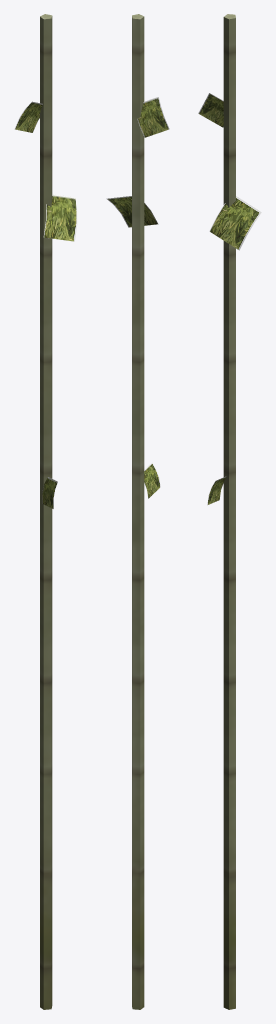
The model's file is bamboo.fbx.
3 renders of one model, left to right at view 1: azimuth 30°, elevation 25°; view 2: azimuth 150°, elevation 25°; view 3: azimuth 330°, elevation 25°, orthographic.
Parts seen in each view (by area): view 1: bomboo; view 2: bomboo; view 3: bomboo.
Boxes of the visible parts, x1,y1,x2,y2 form: bomboo: (14, 14, 77, 1009); bomboo: (106, 14, 169, 1009); bomboo: (198, 14, 261, 1009).
Size of the model in its own units: 2.15 by 32.38 by 1.09.
